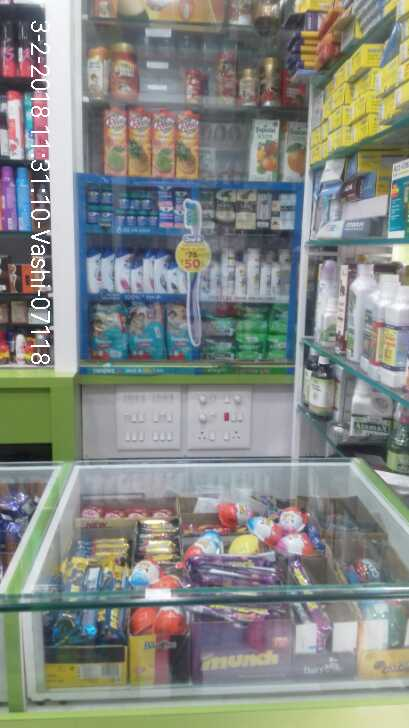beauty: (86, 236, 186, 295), (195, 247, 295, 292), (204, 191, 302, 229)
pharmacy: (81, 184, 192, 231), (187, 316, 286, 361), (88, 301, 126, 359), (127, 303, 165, 359), (161, 301, 196, 358)
